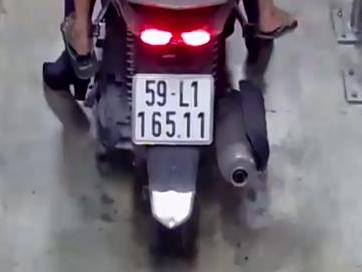num_plate: (130, 71, 218, 148)
